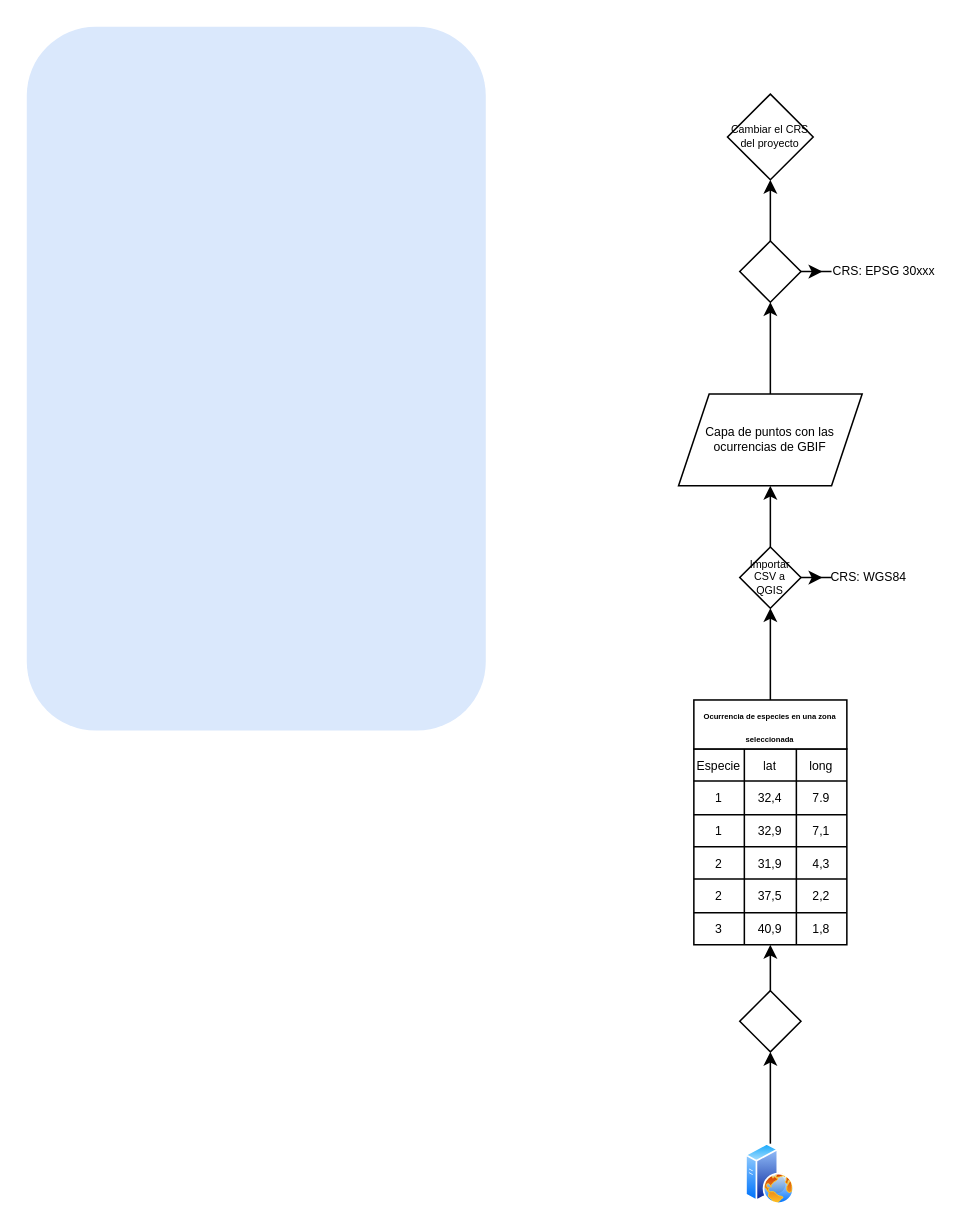
Some shapes in this 970 by 1230 pixel diagram are drawn without their labels. The shapes that lost their labels are listed below. From the top down, each one's centre as x and y in pixels, then its label:
At pixel 769 270: "Exportar a SHP".
At pixel 769 1020: "Descarga GBIF".
